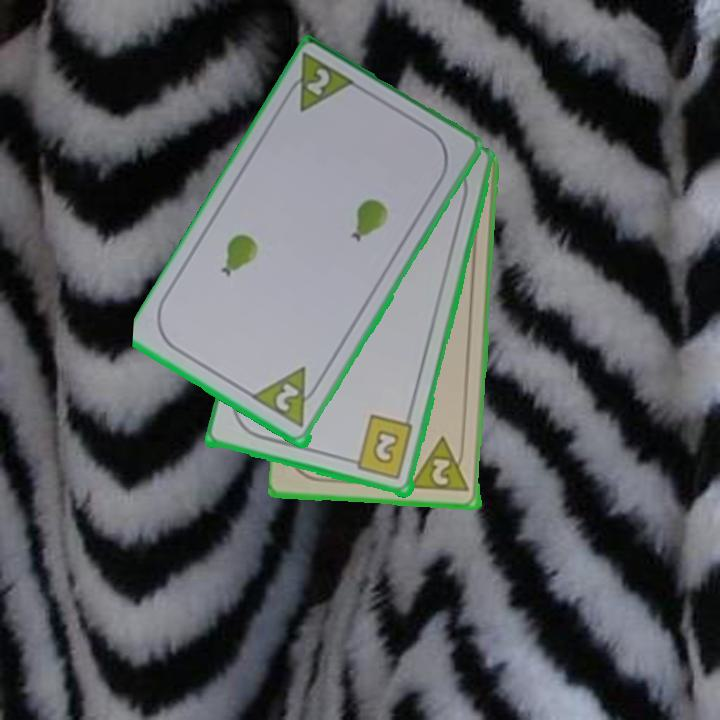2b: (344, 413, 417, 483)
2p: (410, 434, 473, 495), (271, 380, 302, 416), (302, 65, 333, 100)
